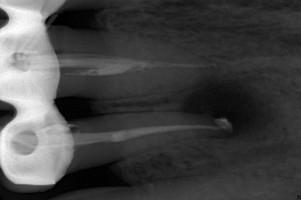Furcation Involvement: (180, 75, 274, 139)
